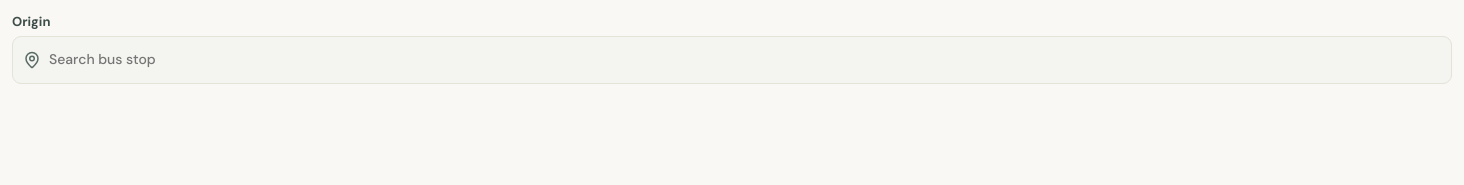
actual user states › shows an empty stop search without crashing
Type "Unknown" into the dropdown at (746, 60), box [41,36,1451,82]
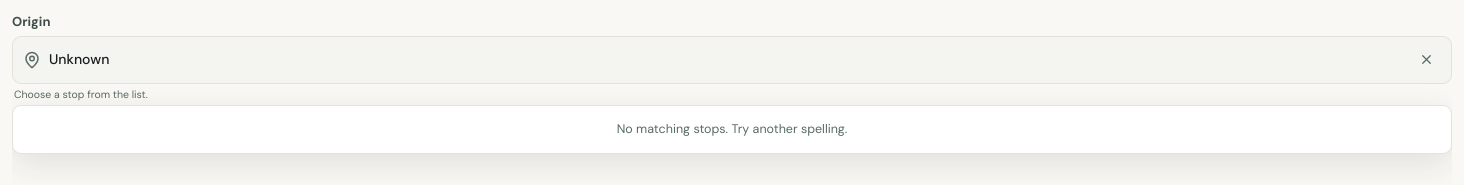
Expected: the message shows "No matching stops", [617,121,847,137]
